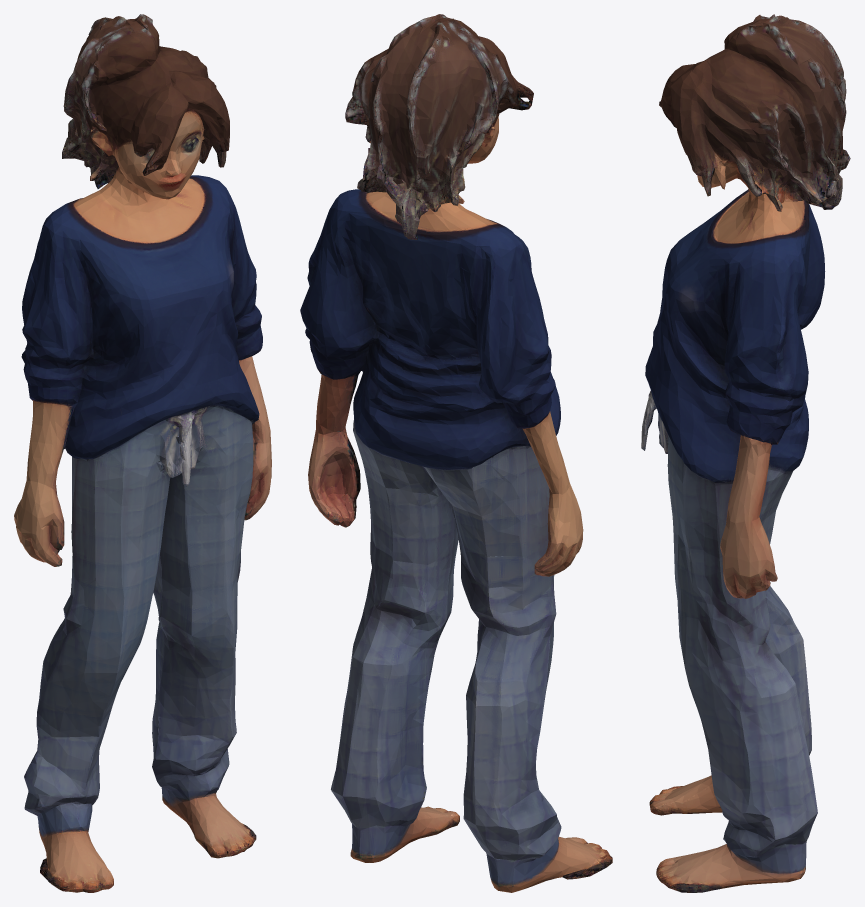
The model's file is trellis_single.glb.
The picture shows the model from 3 angles, left to right: view 1: azimuth 30°, elevation 25°; view 2: azimuth 150°, elevation 25°; view 3: azimuth 270°, elevation 25°; orthographic projection. The views are drawn at different scales.
Visible parts, largest first — view 1: world; view 2: world; view 3: world.
Part boxes in pixels (x1,y1,x2,y2): world: [14, 14, 271, 892]; world: [300, 14, 612, 892]; world: [641, 14, 850, 892].
Size of the model in its own units: 0.3229 by 1 by 0.2274.
1 material, 1 textured.
